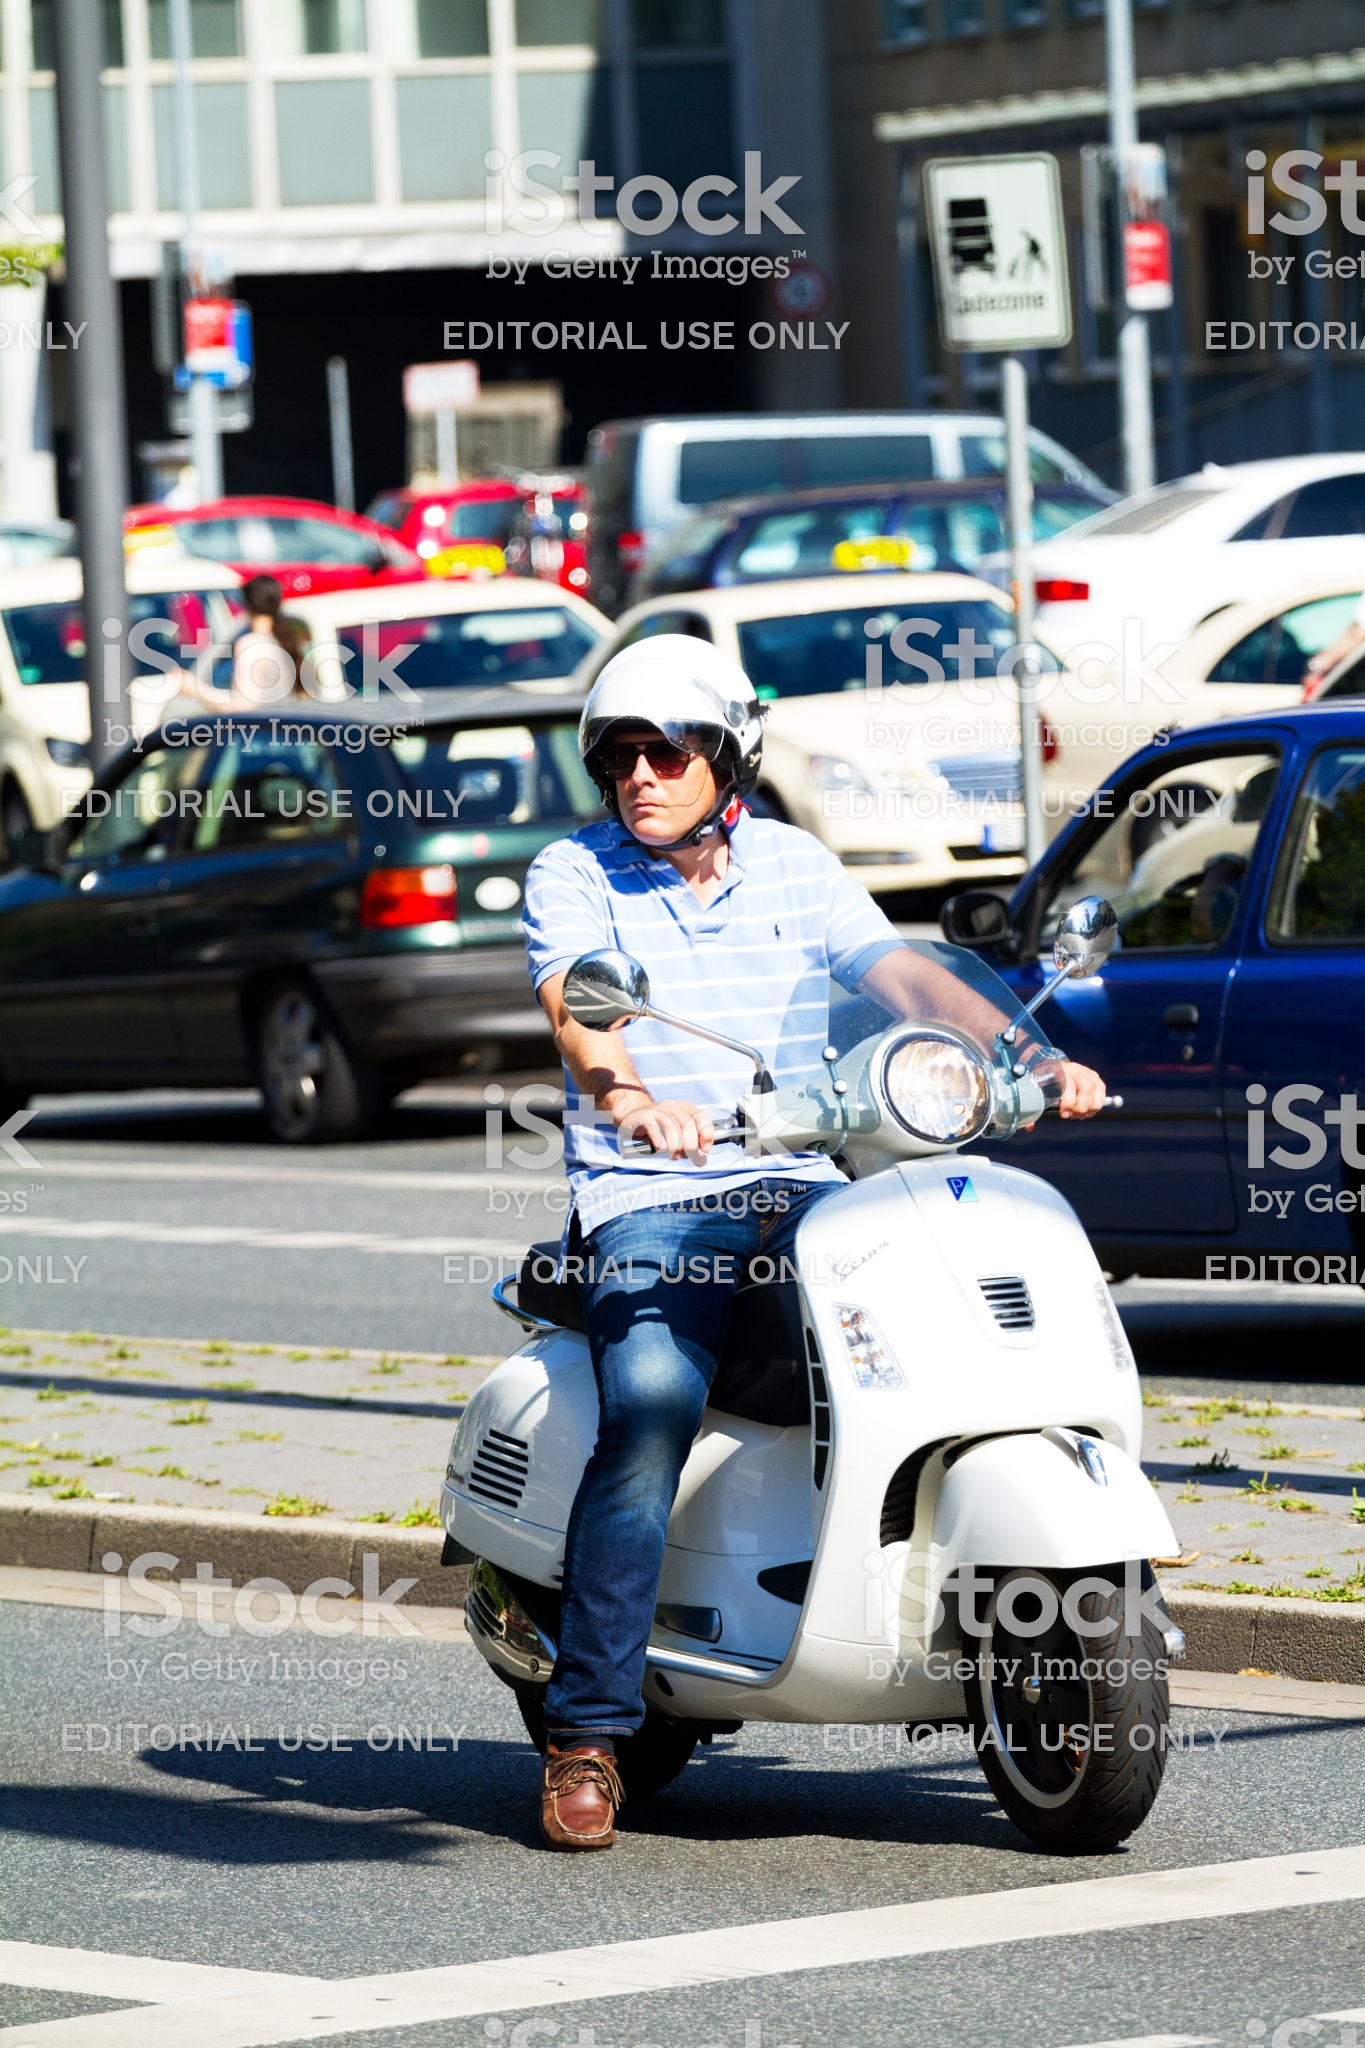helmet: (564, 624, 792, 763)
